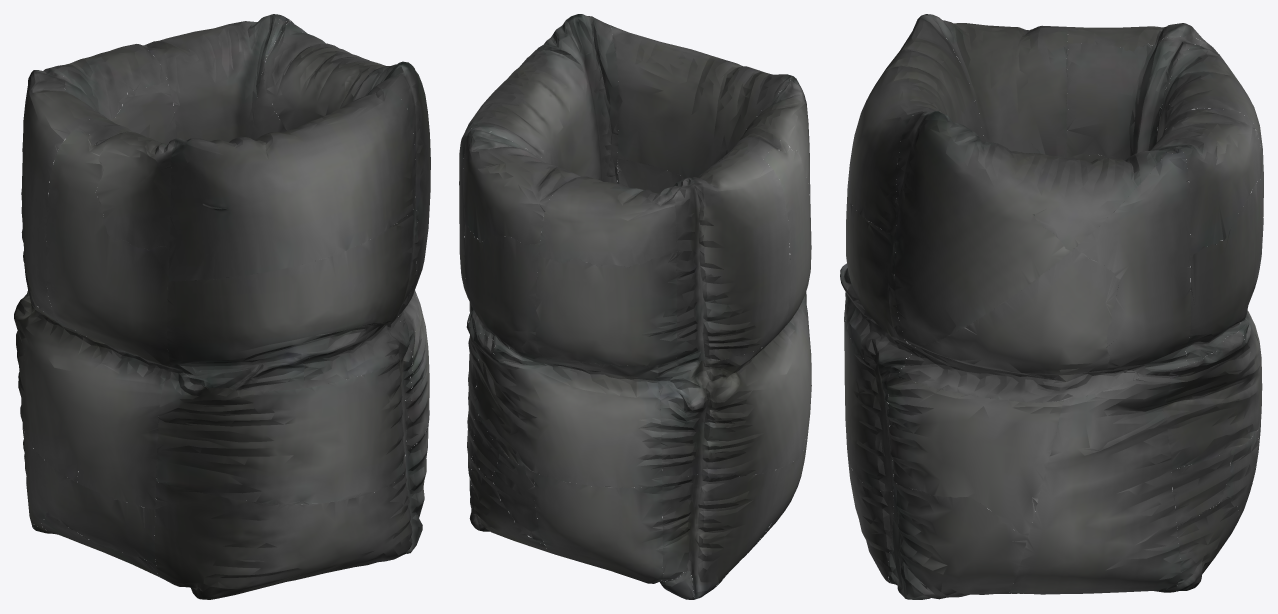
File: 02_1_gs_pv_i_vase_v2.glb
3 renders of one model, left to right at view 1: azimuth 30°, elevation 25°; view 2: azimuth 150°, elevation 25°; view 3: azimuth 270°, elevation 25°, orthographic. The views are drawn at different scales.
Visible parts, largest first — view 1: tripo_node_5fd5d630-b149-4866-8730-af3b3dad17c6; view 2: tripo_node_5fd5d630-b149-4866-8730-af3b3dad17c6; view 3: tripo_node_5fd5d630-b149-4866-8730-af3b3dad17c6.
Part boxes in pixels (<box>): tripo_node_5fd5d630-b149-4866-8730-af3b3dad17c6: <box>14,14,430,599</box>; tripo_node_5fd5d630-b149-4866-8730-af3b3dad17c6: <box>459,14,811,599</box>; tripo_node_5fd5d630-b149-4866-8730-af3b3dad17c6: <box>840,14,1263,599</box>.
Bounding box in the file's own units: 0.1859 × 0.25 × 0.189.
Materials: 1 (1 with a texture image).
